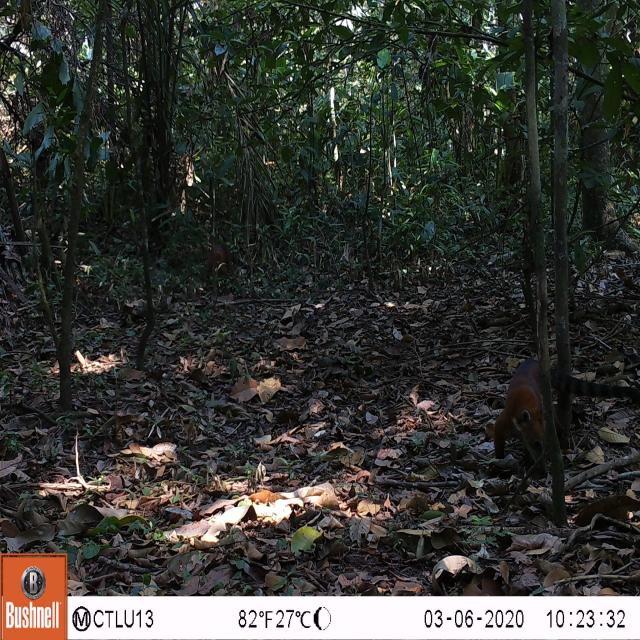South American Coati: (490, 338, 640, 487), (191, 223, 256, 294)
